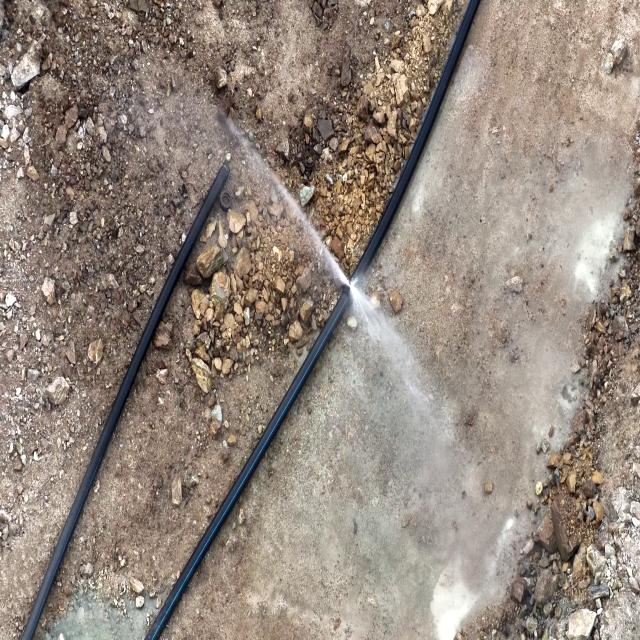leak: (232, 117, 409, 360)
